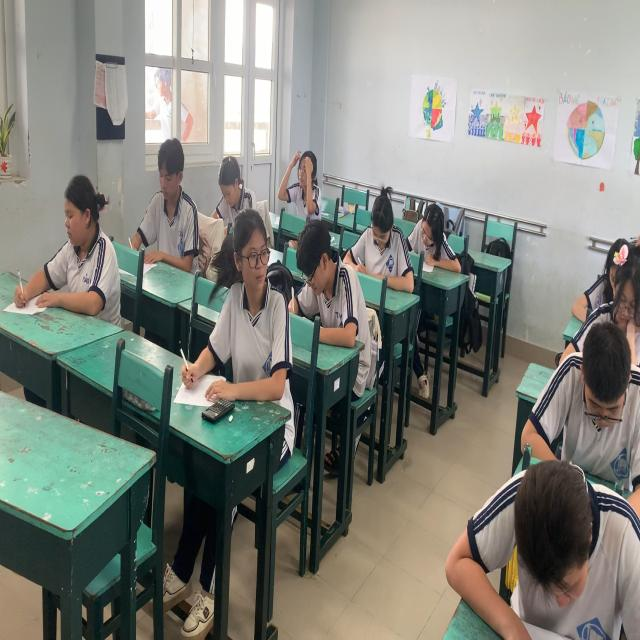cheating: (216, 208, 285, 395)
not_cheating: (508, 446, 621, 640), (559, 320, 640, 488), (40, 161, 121, 326), (292, 210, 368, 341), (147, 136, 198, 272), (589, 223, 640, 345), (364, 185, 415, 305), (412, 188, 459, 288), (284, 137, 324, 239), (213, 149, 254, 243)
